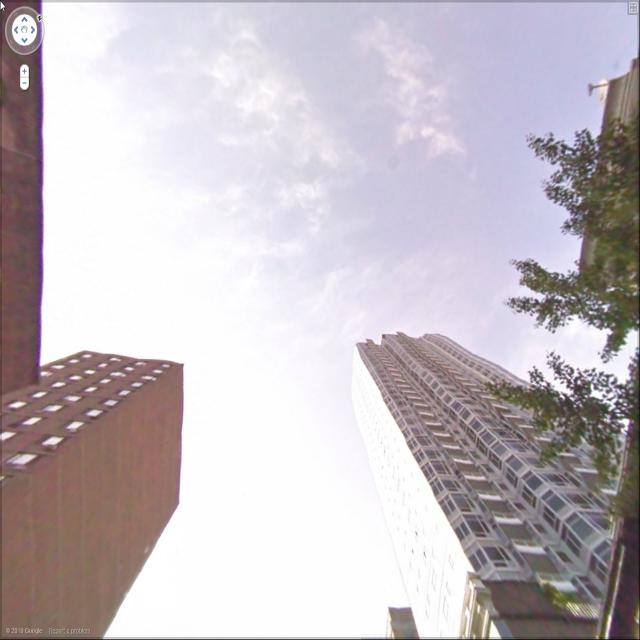b_1: (359, 314, 618, 614), (0, 339, 205, 616)
b_2: (556, 59, 635, 320)
